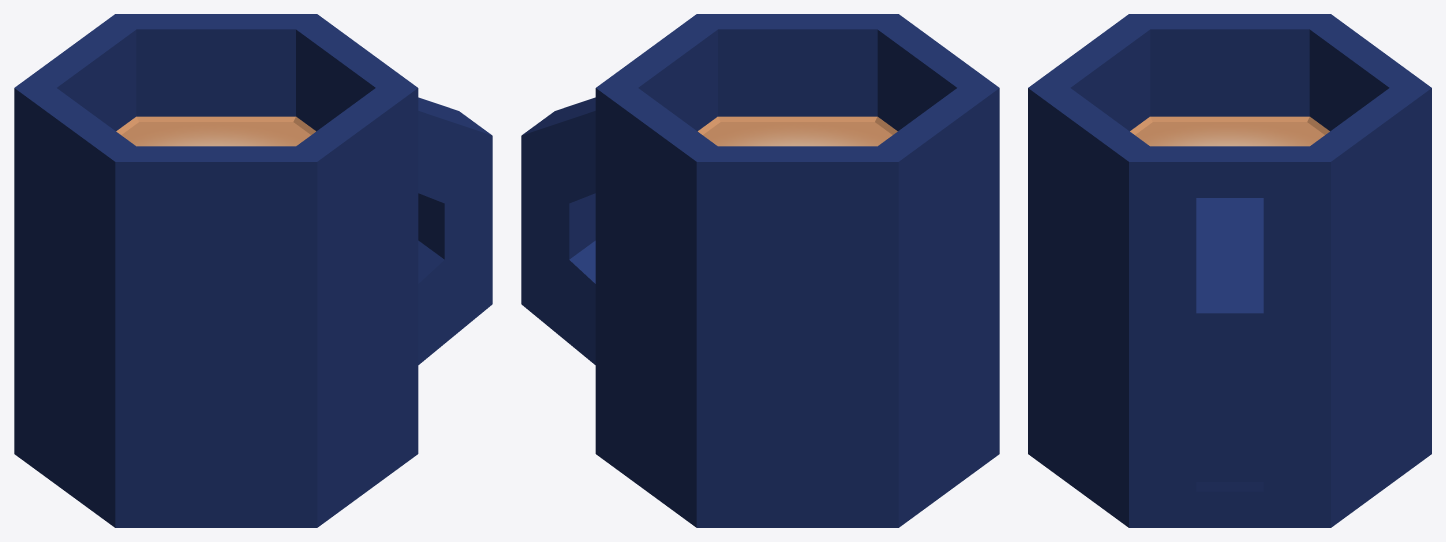
Rendered from Mug.fbx.
3 renders of one model, left to right at view 1: azimuth 30°, elevation 25°; view 2: azimuth 150°, elevation 25°; view 3: azimuth 270°, elevation 25°, orthographic.
Parts seen in each view (by area): view 1: Cylinder; view 2: Cylinder; view 3: Cylinder.
Part boxes in pixels (x1=…): Cylinder: x1=14, y1=14, x2=492, y2=527; Cylinder: x1=521, y1=14, x2=999, y2=527; Cylinder: x1=1028, y1=14, x2=1431, y2=527.
Size of the model in its own units: 9.4 by 8 by 8.
